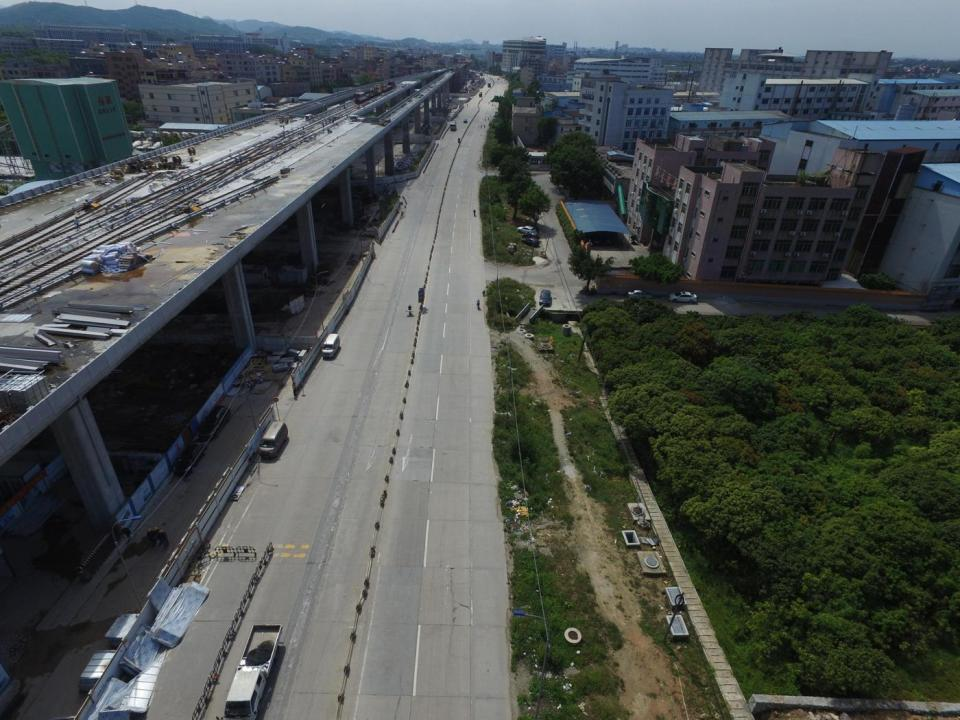car: (173, 440, 206, 475), (198, 404, 231, 439), (669, 290, 698, 302), (628, 289, 654, 301), (538, 289, 552, 306), (520, 237, 540, 246), (522, 231, 540, 241), (518, 225, 537, 234), (463, 118, 467, 122)
truck: (221, 623, 282, 720)
van: (257, 421, 287, 465), (322, 332, 338, 358)
